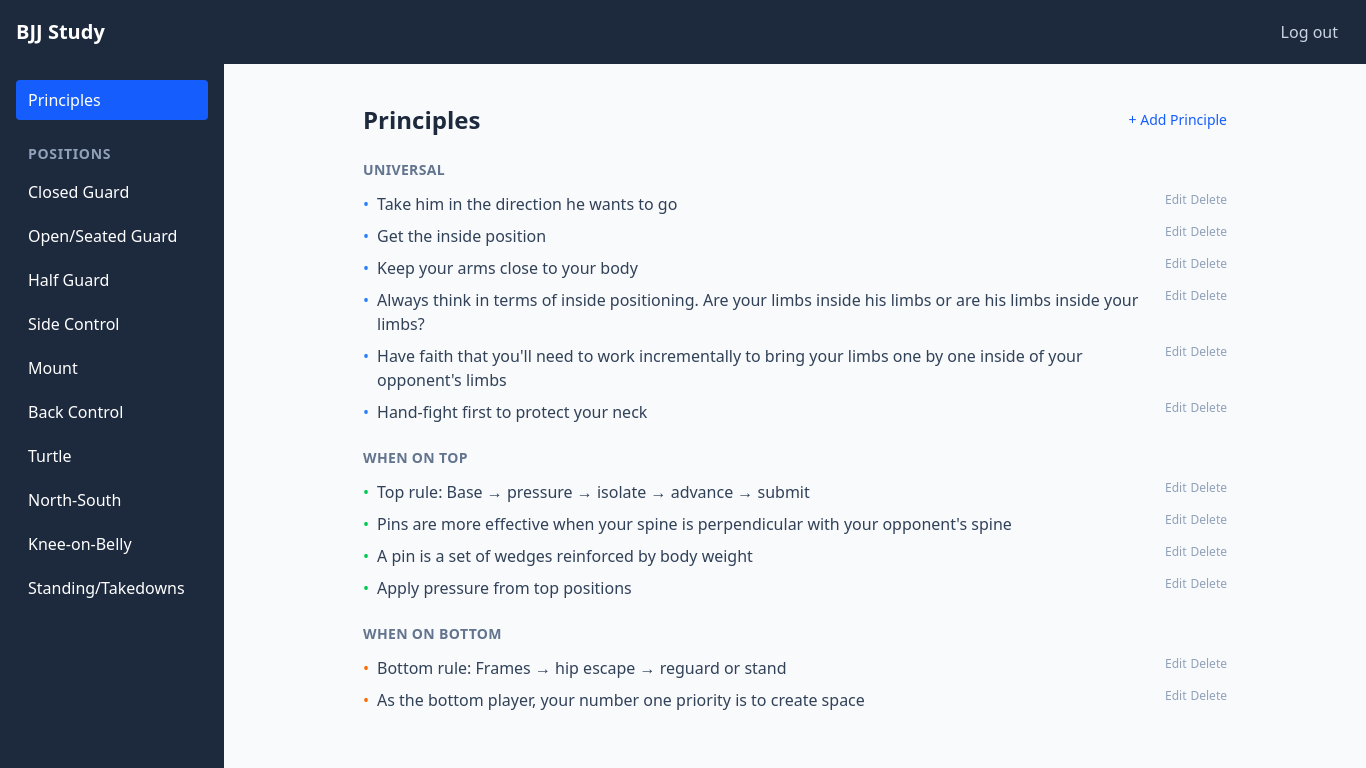
Test: App › adds a new principle
This screenshot has width=1366, height=768.
Click the button "+ Add Principle" at (1178, 120), box [1129,110,1227,130]
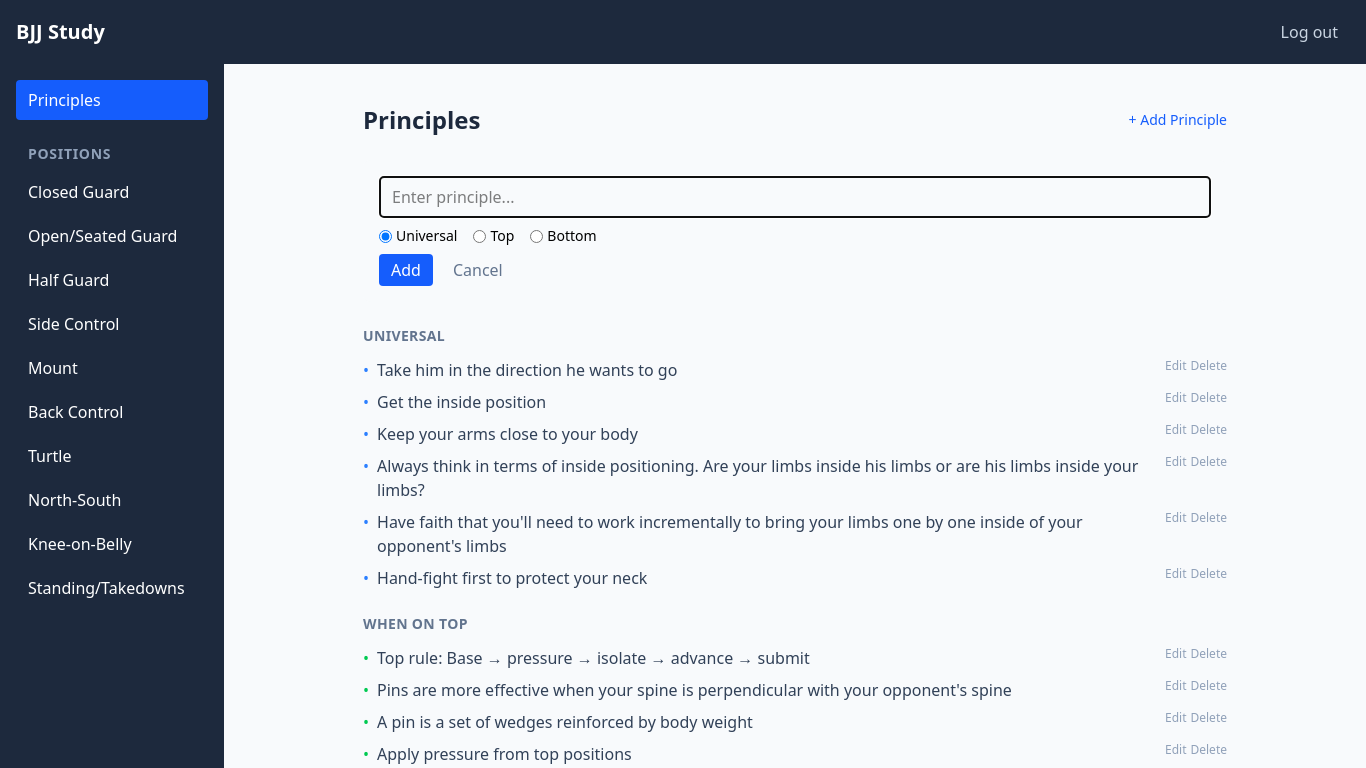
Type "Test principle" into the field with placeholder "Enter principle..." at (795, 197), box [379,176,1211,218]
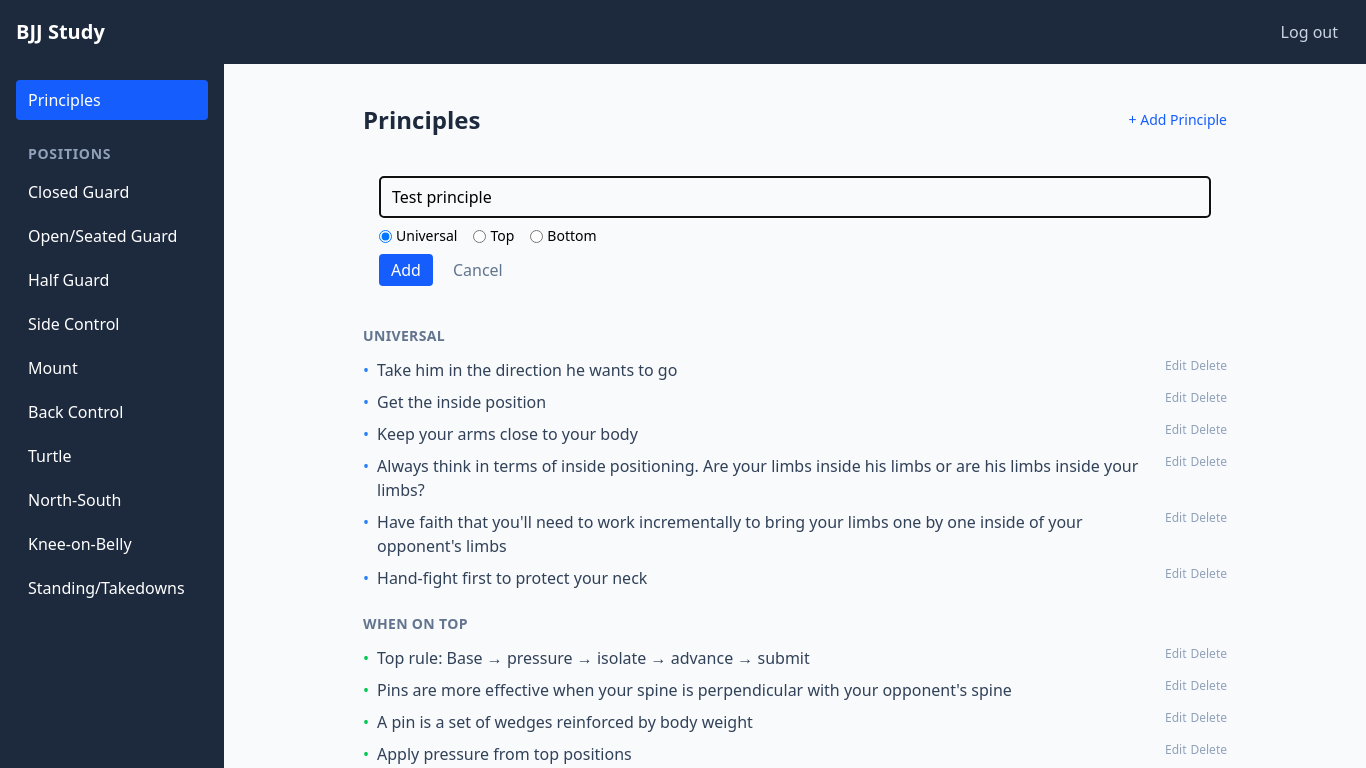
Click the button "Add" at (406, 270), box [379,254,433,286]
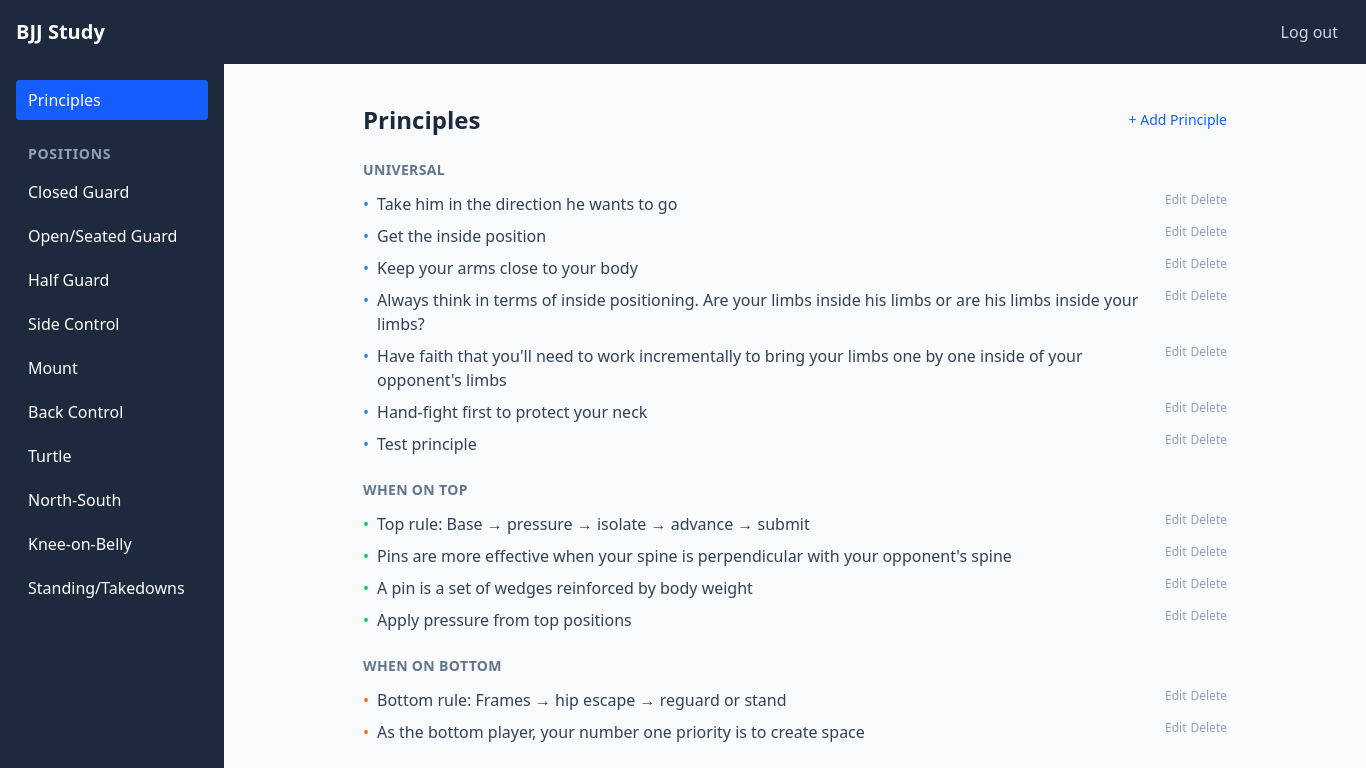
Now the text "Test principle" is shown, box [377,433,477,455]
